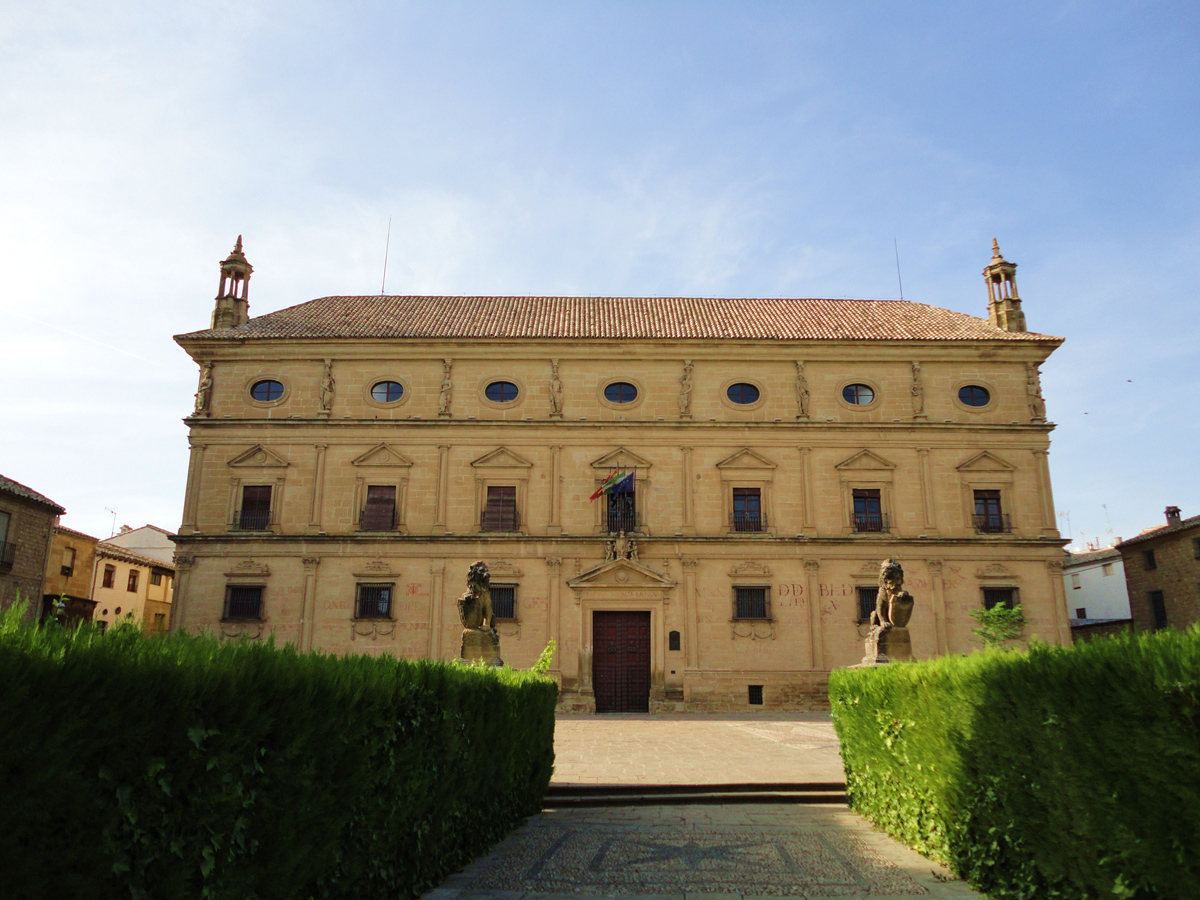fronton: (564, 556, 679, 591), (347, 441, 416, 470), (226, 441, 292, 470), (835, 446, 898, 475), (470, 444, 535, 471), (589, 445, 655, 471), (955, 449, 1019, 475), (714, 447, 780, 471)
ojo-de-buey: (719, 375, 768, 413), (835, 377, 885, 412), (480, 374, 526, 411), (951, 380, 1000, 414), (363, 375, 411, 409), (597, 377, 646, 410), (248, 373, 290, 407)
vano-adintelado: (573, 591, 670, 721), (590, 461, 653, 536), (225, 474, 289, 538), (471, 474, 532, 540), (838, 475, 899, 541), (959, 477, 1020, 542), (719, 476, 778, 542), (353, 473, 411, 538)
